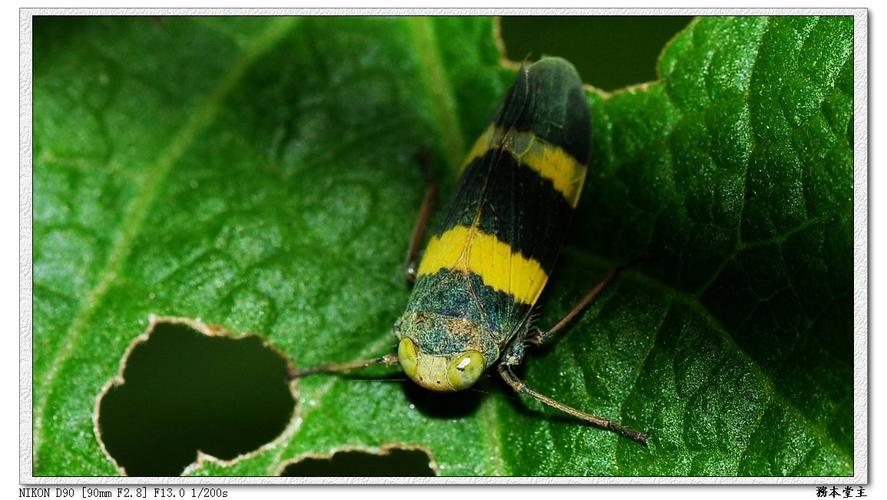Cicadellidae: (397, 57, 652, 444)
